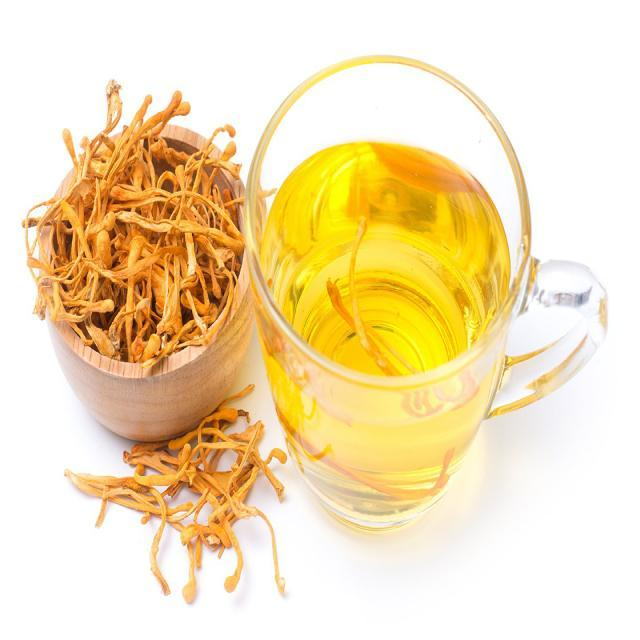Cordyceps militaris: (39, 112, 238, 348), (77, 411, 291, 595)
